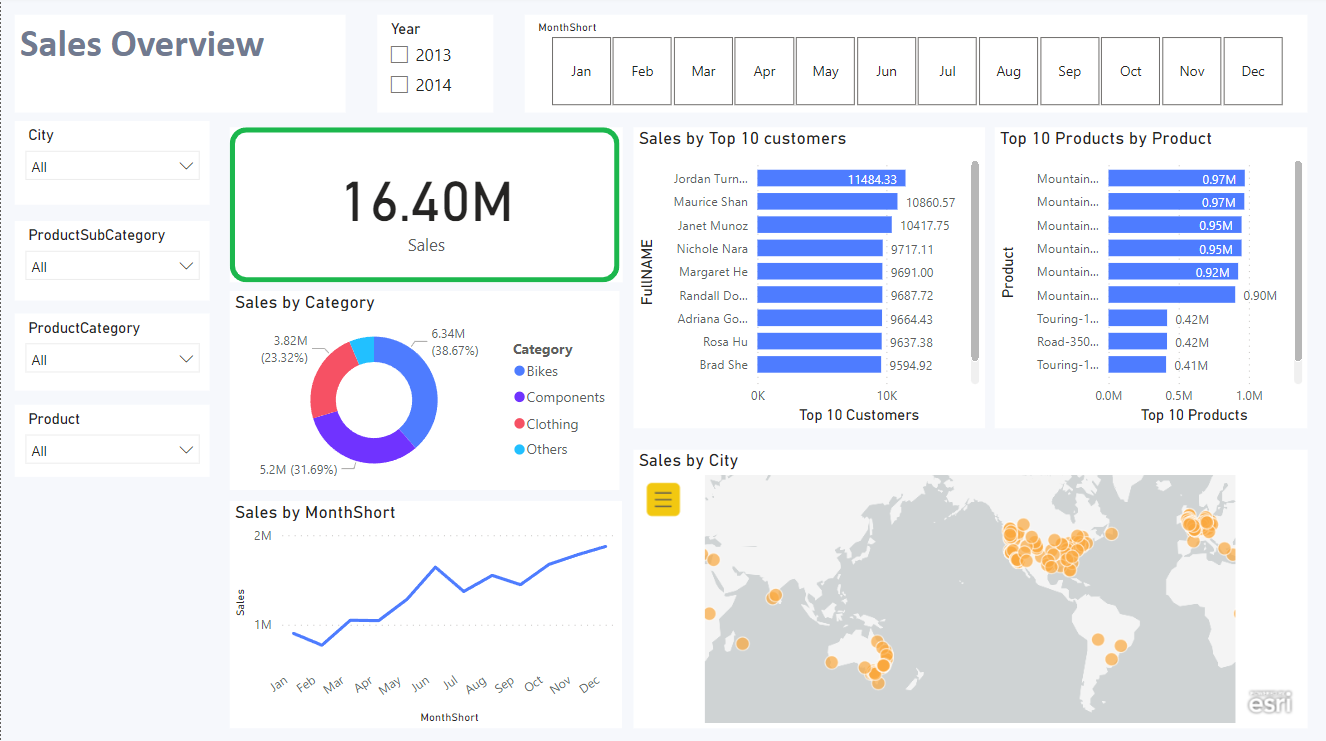

Layout of this report page (visuals, bound fields, positions):
{"tool":"powerbi","page":{"name":"Page 1","canvas":[1280,720],"ordinal":0},"visuals":[{"type":"slicer","fields":{"Values":["DimDate.Year"]},"box":[363,18.1,112.2,94.1],"z":0},{"type":"textbox","box":[13.3,18.1,319.6,94.1],"z":1000},{"type":"slicer","title":"Month","fields":{"Values":["DimDate.MonthShort"]},"box":[505.3,18.1,755,94.1],"z":2000},{"type":"slicer","fields":{"Values":["DimCustomer.City"]},"box":[13.3,120.6,188.1,80.8],"z":3000},{"type":"slicer","fields":{"Values":["DimProduct.ProductSubCategory"]},"box":[13.3,217.1,188.1,77.2],"z":4000},{"type":"slicer","fields":{"Values":["DimProduct.ProductCategory"]},"box":[13.3,306.3,188.1,74.8],"z":5000},{"type":"slicer","fields":{"Values":["DimProduct.Product"]},"box":[13.3,394.4,188.1,69.9],"z":6000},{"type":"card","fields":{"Values":["FactInternetSales.Sales"]},"box":[221.1,126.4,379.1,149.7],"z":7000},{"type":"donutChart","title":"Sales by Category","fields":{"Y":["FactInternetSales.Sales"],"Category":["DimProduct.ProductCategory"]},"box":[220.7,284.6,376.3,191.8],"z":8000},{"type":"shape","box":[221.1,126.4,376.3,149.7],"z":9000},{"type":"lineChart","fields":{"Category":["DimDate.Year Hierarchy.Year","DimDate.Year Hierarchy.Quarter","DimDate.Year Hierarchy.MonthShort"],"Y":["FactInternetSales.Sales"]},"box":[220.7,487.2,378.7,219.5],"z":10000},{"type":"clusteredBarChart","title":"Sales by Top 10 customers","fields":{"Category":["DimCustomer.FullNAME"],"Y":["FactInternetSales.Top 10 Customers"]},"box":[610.3,126.6,338.9,290.7],"z":11000},{"type":"esriVisual","fields":{"Location":["DimCustomer.City"]},"box":[610.3,437.8,650.1,268.9],"z":12000},{"type":"clusteredBarChart","fields":{"Category":["DimProduct.Product"],"Y":["FactInternetSales.Top 10 Products"]},"box":[958.8,126.6,301.5,290.7],"z":13000}]}

Visuals, with their boxes in screenshot pixels (x1, y1, x2, y2), scaled from the page's 1280x720 canvas onto the 1326x741 screenshot:
slicer - DimDate.Year: 376/19/492/115
textbox: 14/19/345/115
"Month" slicer: 523/19/1306/115
slicer - DimCustomer.City: 14/124/209/207
slicer - DimProduct.ProductSubCategory: 14/223/209/303
slicer - DimProduct.ProductCategory: 14/315/209/392
slicer - DimProduct.Product: 14/406/209/478
card - FactInternetSales.Sales: 229/130/622/284
"Sales by Category" donutChart: 229/293/618/490
shape: 229/130/619/284
lineChart - DimDate.Year Hierarchy.Year x DimDate.Year Hierarchy.Quarter: 229/501/621/727
"Sales by Top 10 customers" clusteredBarChart: 632/130/983/429
esriVisual - DimCustomer.City: 632/451/1306/727
clusteredBarChart - DimProduct.Product x FactInternetSales.Top 10 Products: 993/130/1306/429
